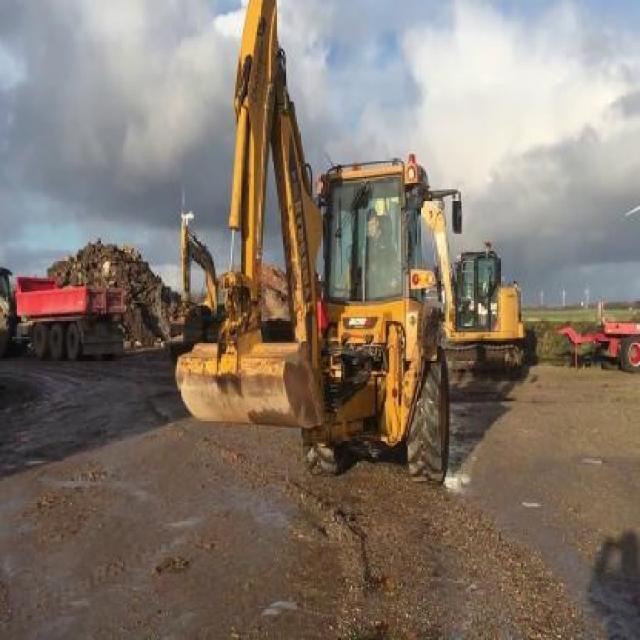Dump Truck: (0, 269, 126, 363)
Excavator: (420, 192, 526, 380)
